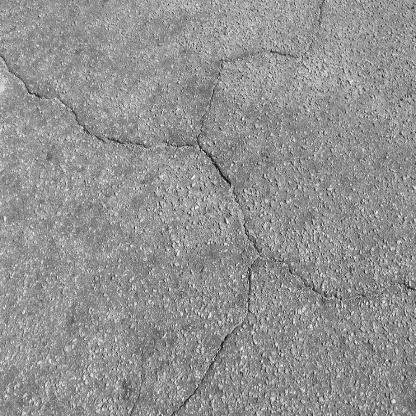Cracks: (0, 32, 190, 149), (130, 254, 264, 416), (198, 0, 337, 141), (257, 249, 416, 309), (191, 137, 265, 253)
